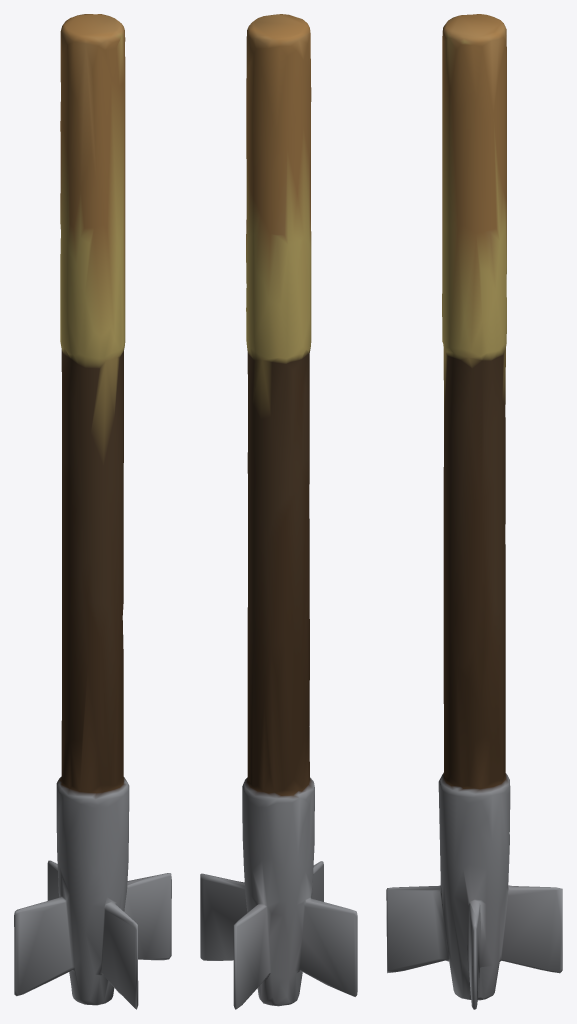
File: gen3d-rake-lod1.glb
The picture shows the model from 3 angles, left to right: view 1: azimuth 30°, elevation 25°; view 2: azimuth 150°, elevation 25°; view 3: azimuth 270°, elevation 25°; orthographic projection.
Visible parts, largest first — view 1: part_0; view 2: part_0; view 3: part_0.
Boxes of the visible parts, x1,y1,x2,y2 form: part_0: (14, 14, 171, 1009); part_0: (200, 14, 357, 1009); part_0: (386, 14, 562, 1009).
Bounding box in the file's own units: 0.1692 × 0.9999 × 0.1649.
